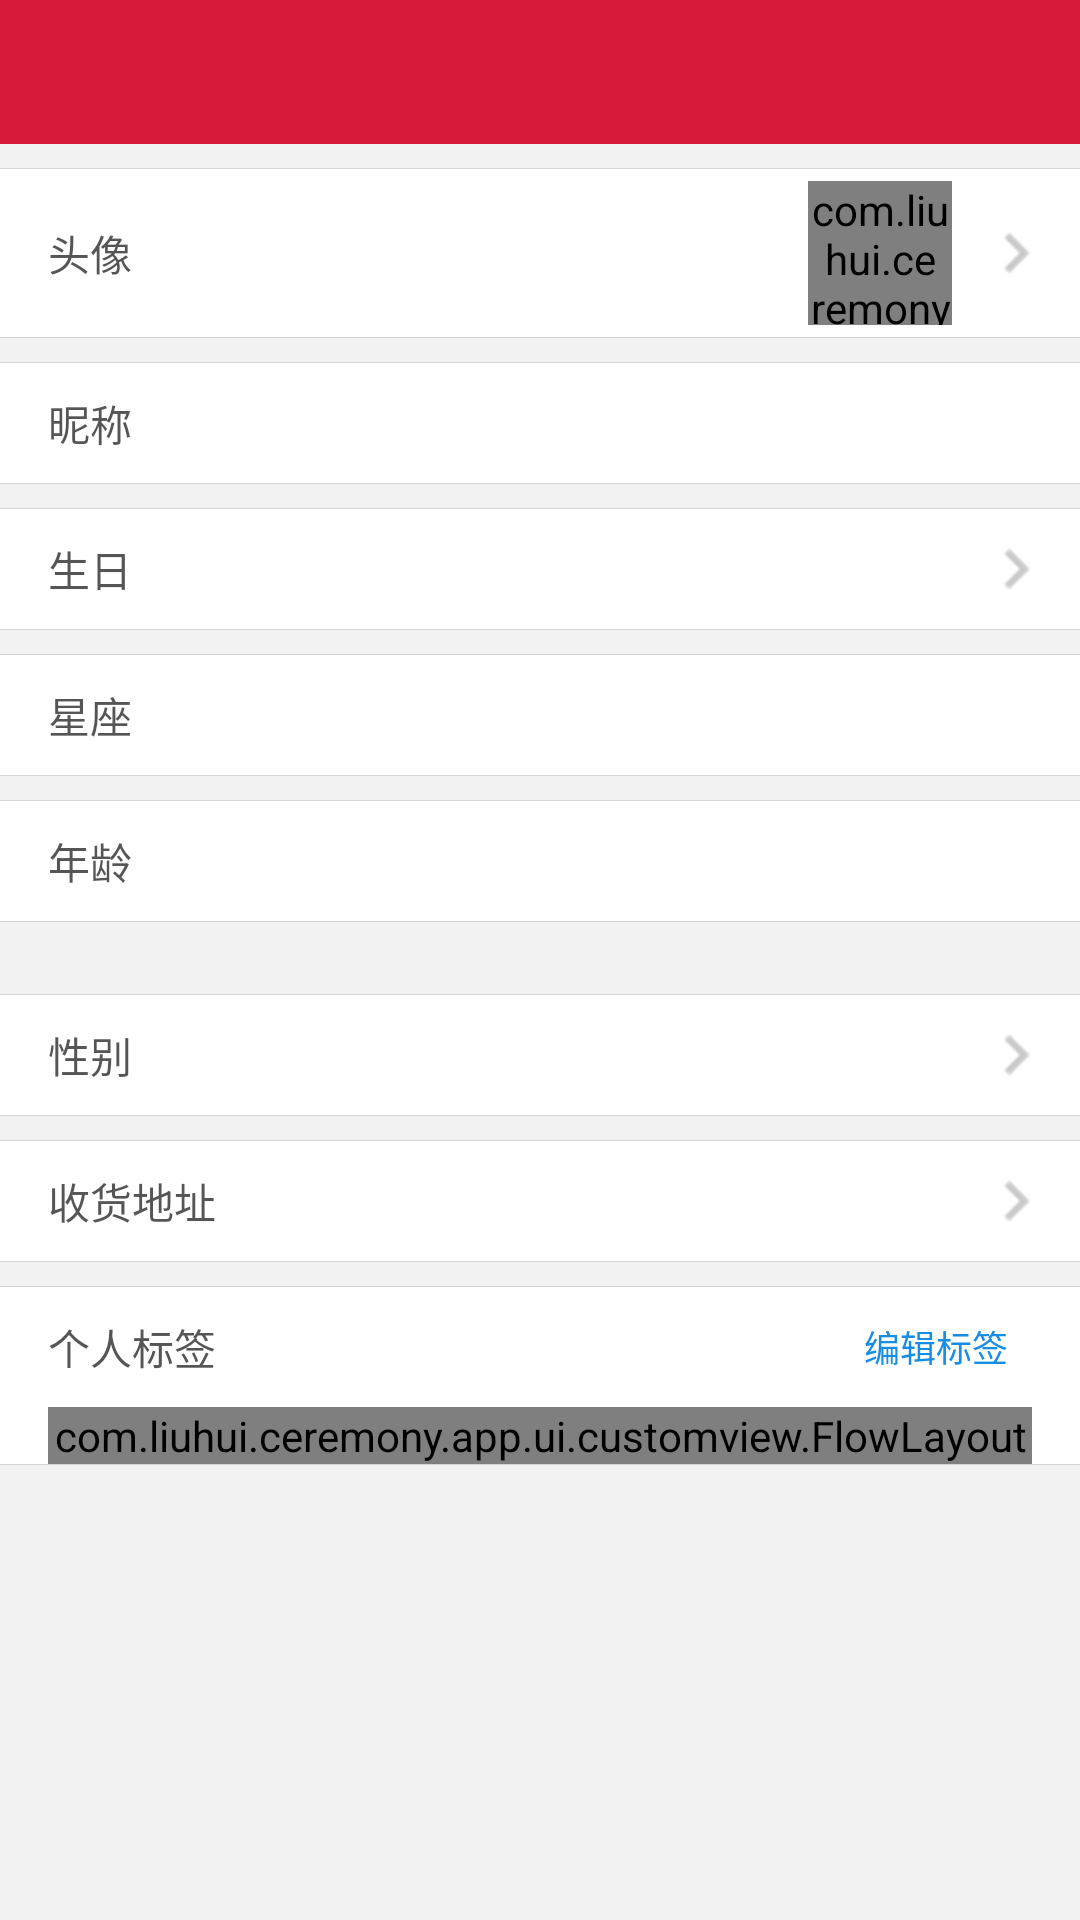

Icons on this 1080×1920 Android screen, each with the point to tap as (x,y):
next: (1017,253)
